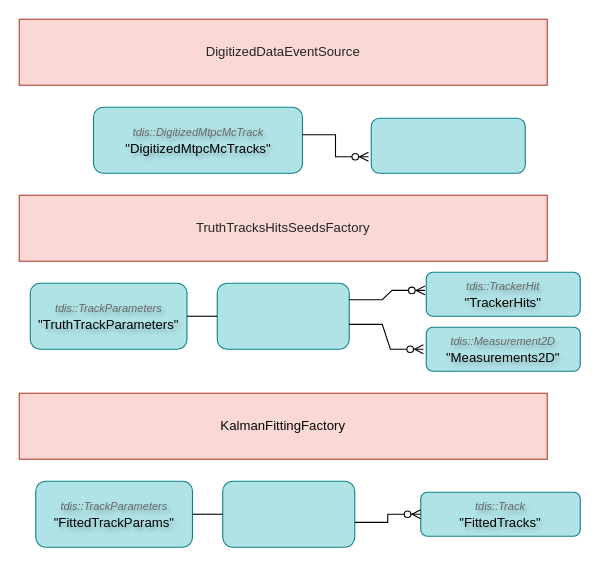
This 600x567 diagram has some shape labels left out. The shapes that lost their labels are listed below. From the top down, each one's box as (x1, y1, x2, y2) in pixels, then its label:
(370, 117, 525, 173): tdis::DigitizedMtpcMcHit " DigitizedMtpcMcHits"
(216, 282, 349, 349): tdis:: TrackSeed "TruthTrackSeeds "
(222, 480, 355, 547): tdis:: Trajectory "FittedTrajectories "
